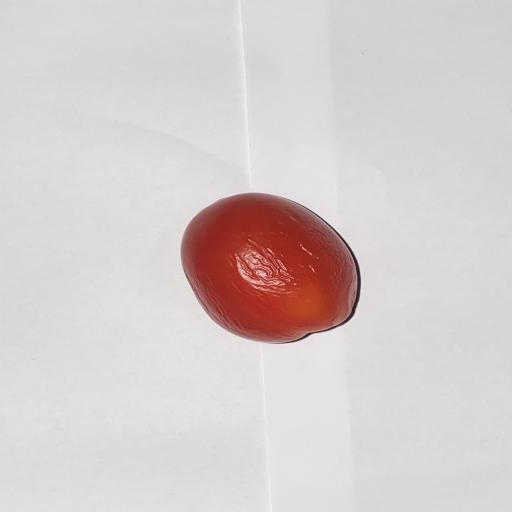spoiled: (181, 193, 358, 343), (182, 194, 357, 342)
